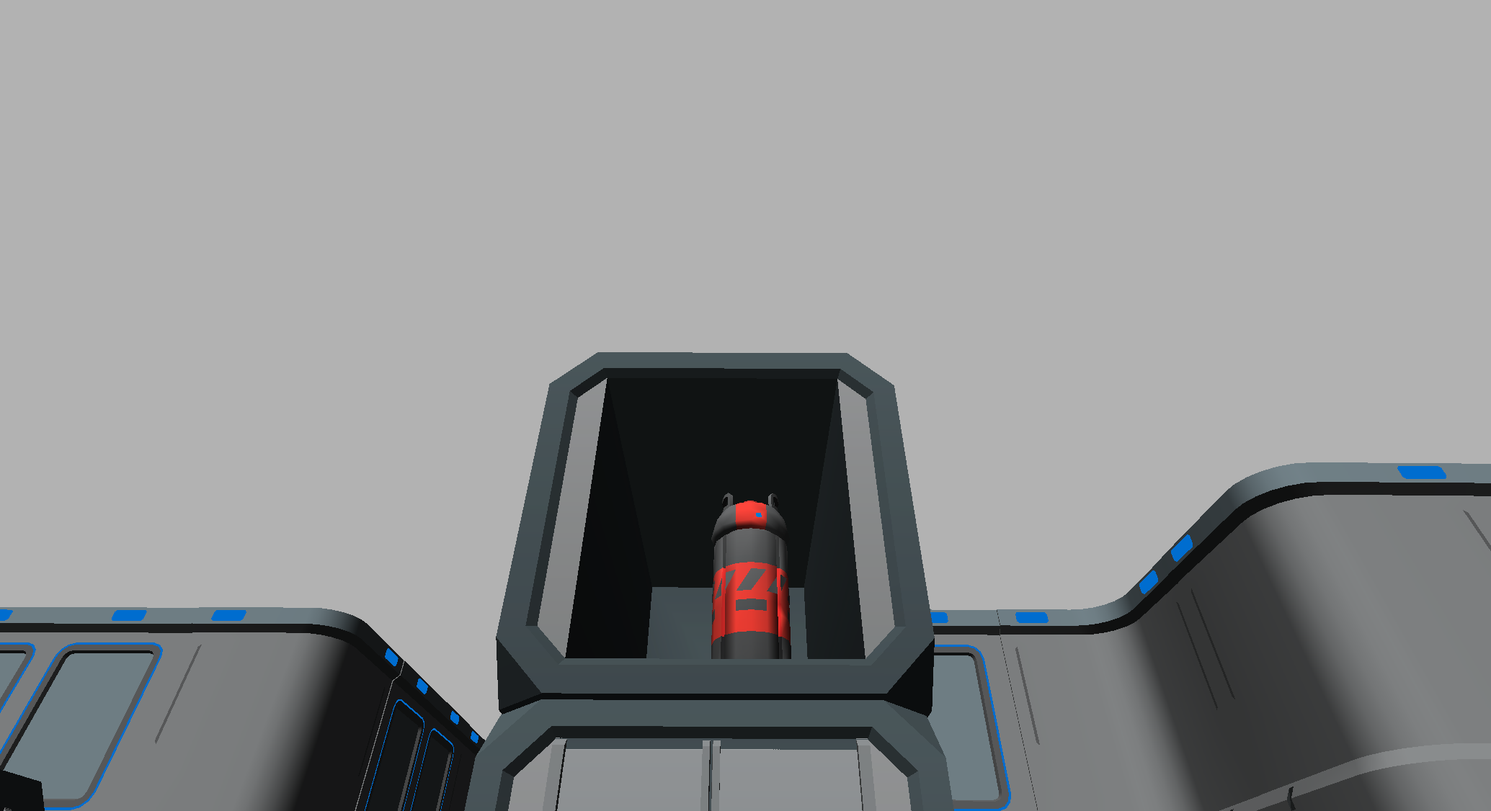red_barrel: (712, 494, 790, 657)
